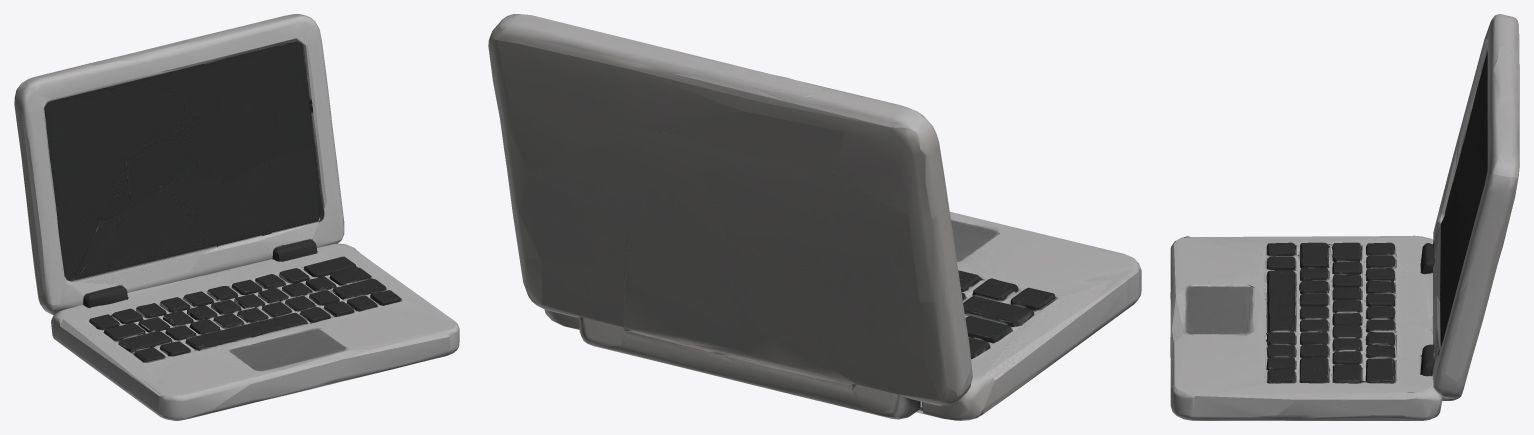
The model's file is laptop.glb.
3 renders of one model, left to right at view 1: azimuth 30°, elevation 25°; view 2: azimuth 150°, elevation 25°; view 3: azimuth 270°, elevation 25°, orthographic. The views are drawn at different scales.
Visible parts, largest first — view 1: mesh_node; view 2: mesh_node; view 3: mesh_node.
Part boxes in pixels (left/top/right/bottom): mesh_node: left=14, top=14, right=459, bottom=420; mesh_node: left=488, top=14, right=1141, bottom=420; mesh_node: left=1170, top=14, right=1519, bottom=420.
Bounding box in the file's own units: 0.1531 × 0.114 × 0.14.
1 material, 1 textured.
